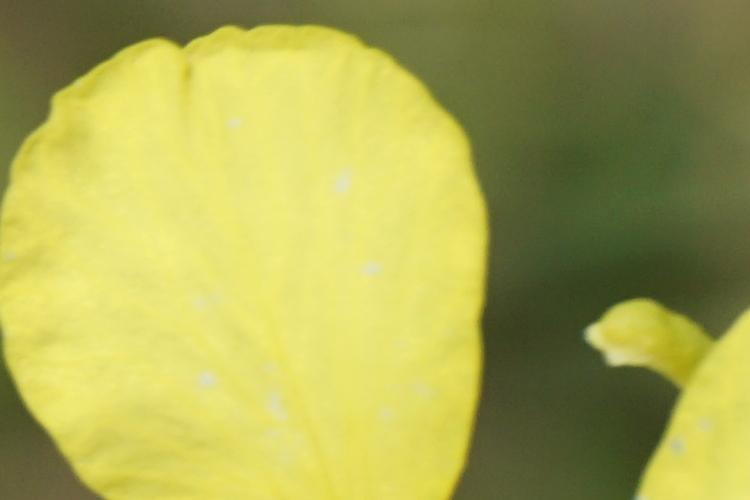yellow: (7, 44, 476, 496)
